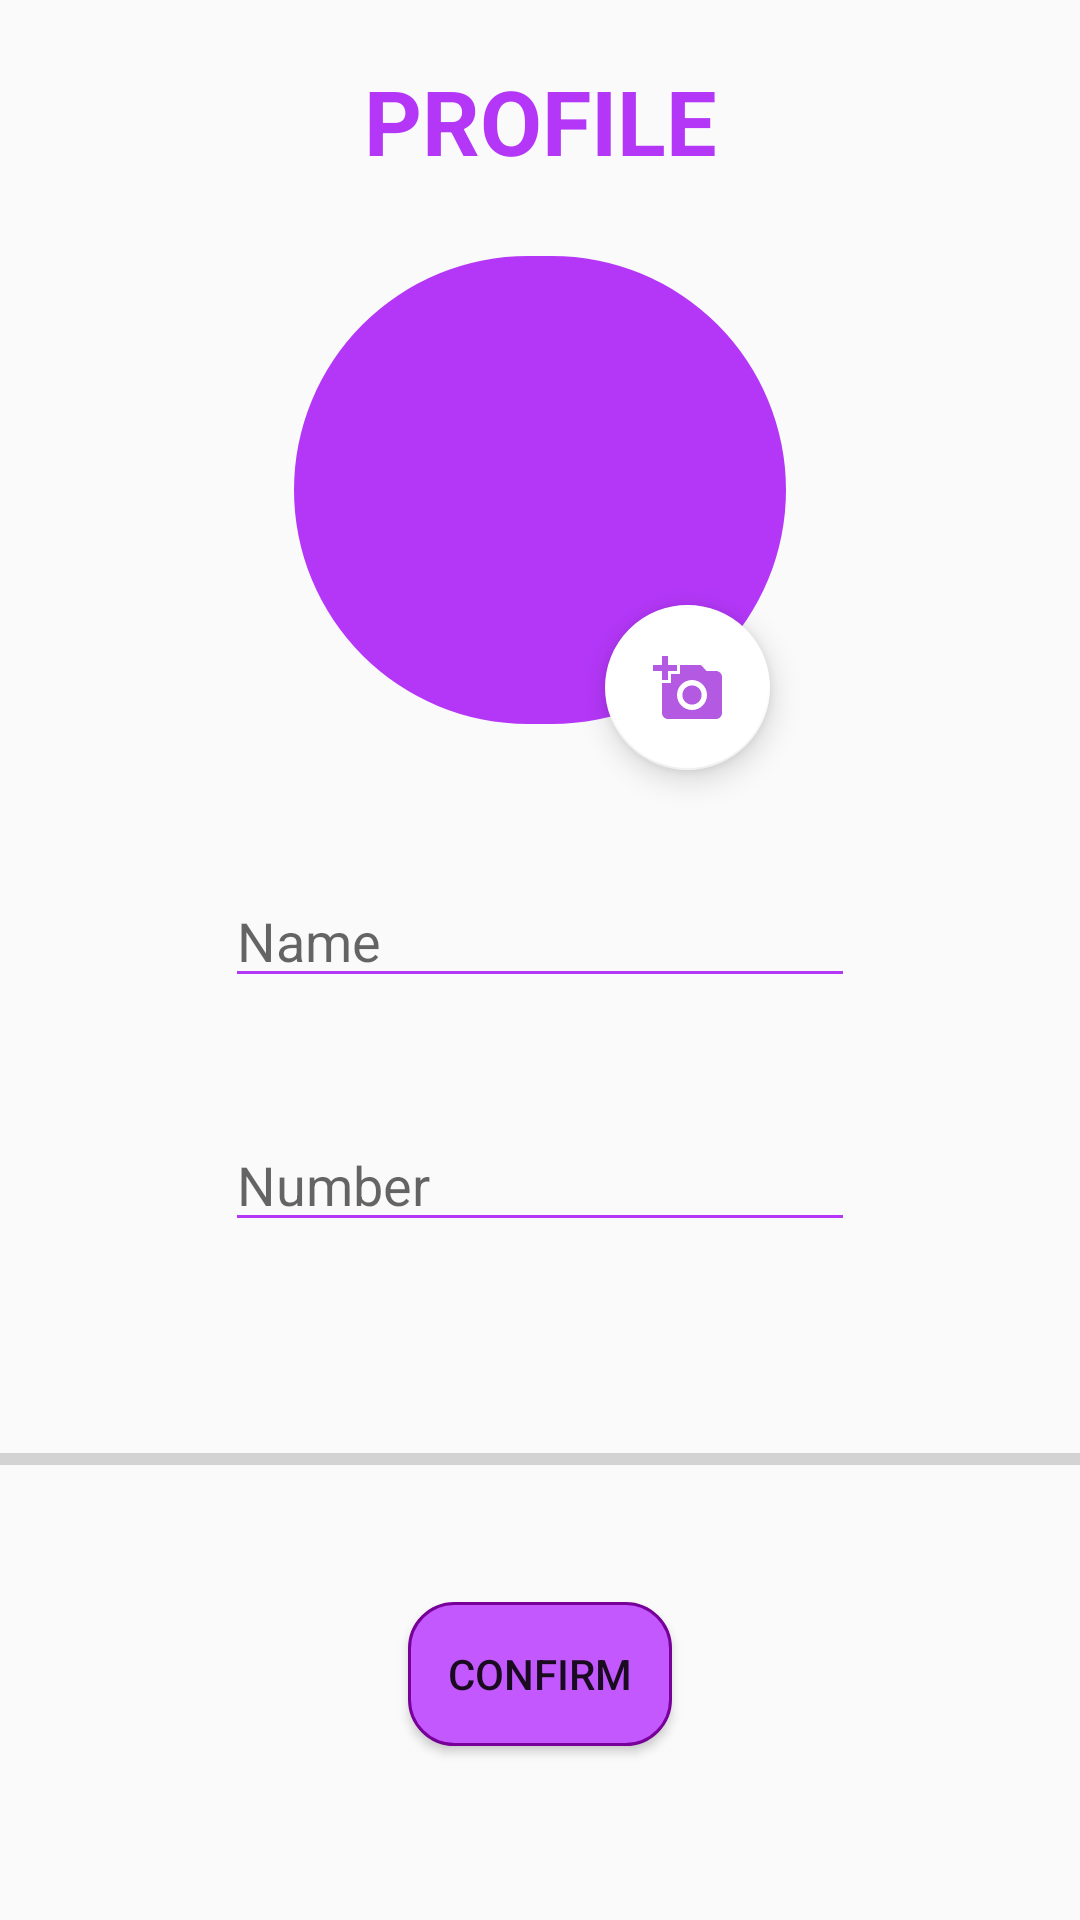

Named icons in this screenshot (1080 × 1920) and their centers, (x=x, y=y):
add photo: (x=687, y=687)
